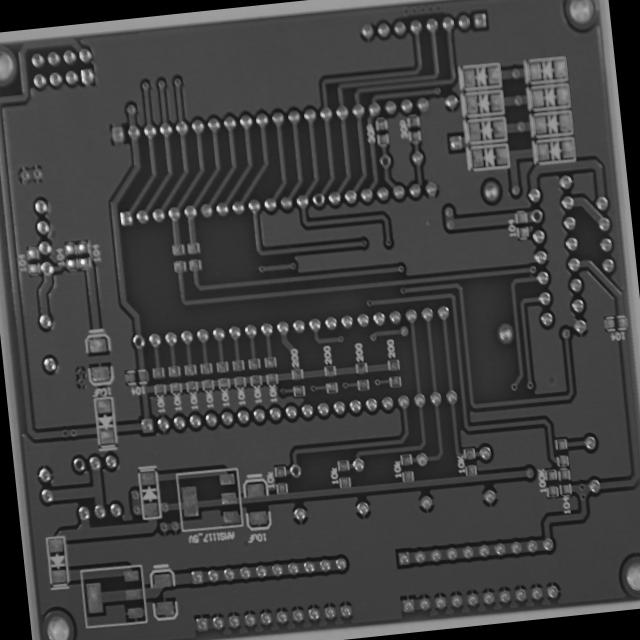missing_hole: (528, 203, 548, 226), (130, 332, 148, 352), (287, 460, 303, 480), (377, 152, 393, 170), (72, 454, 86, 472), (312, 191, 326, 207)
